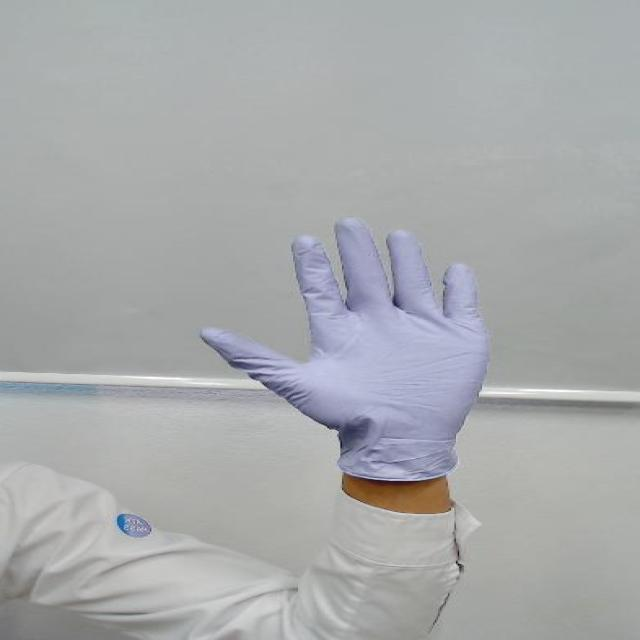glove: (191, 213, 499, 458)
